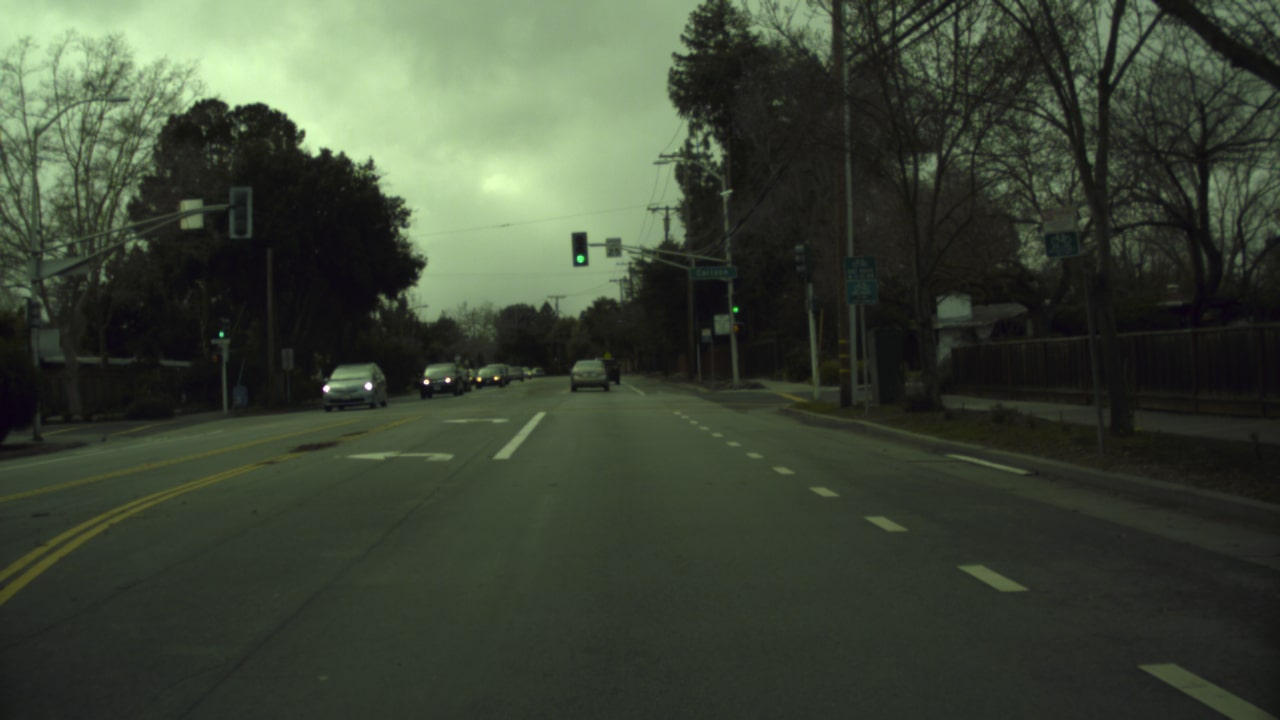signal: (725, 297, 746, 330), (570, 231, 588, 267), (214, 326, 228, 344)
